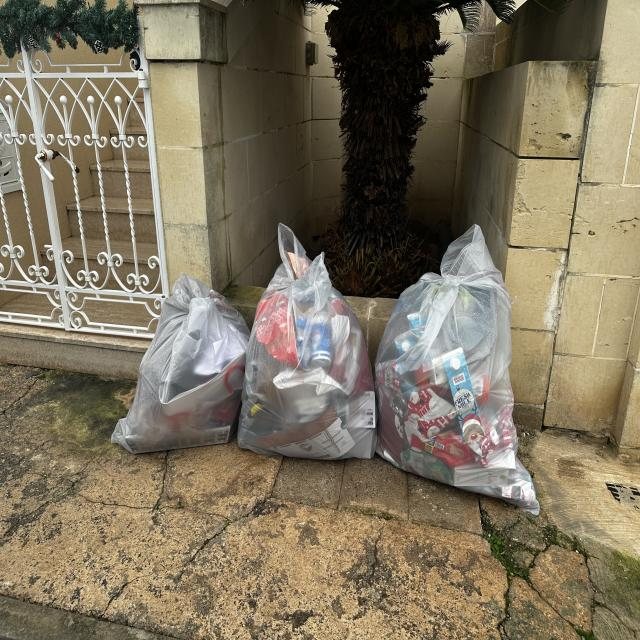Recyclable Material -Grey Bags-: (111, 222, 540, 515)
